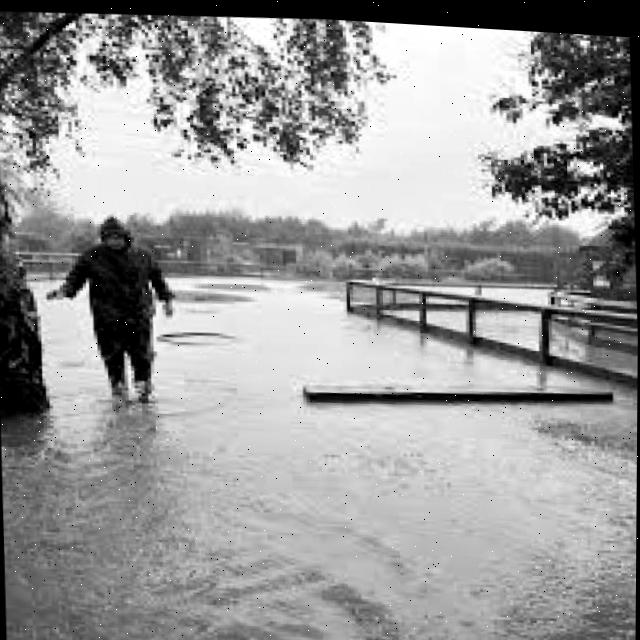civilian: (41, 205, 194, 416)
